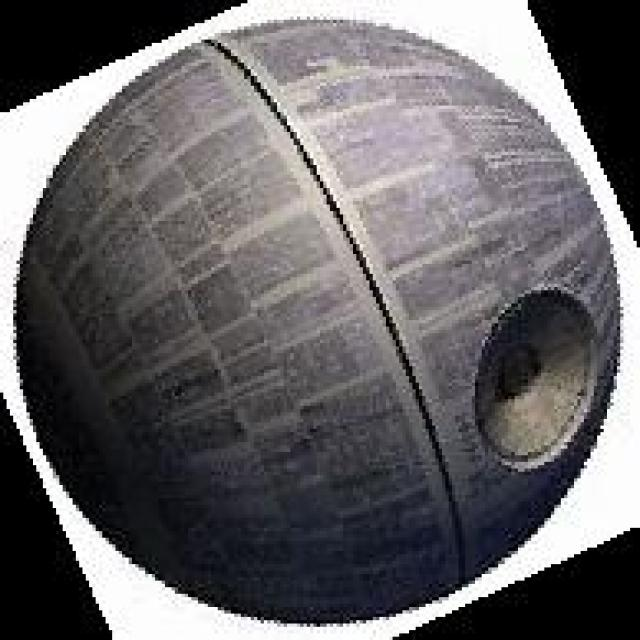Death Star: (0, 4, 630, 634)
